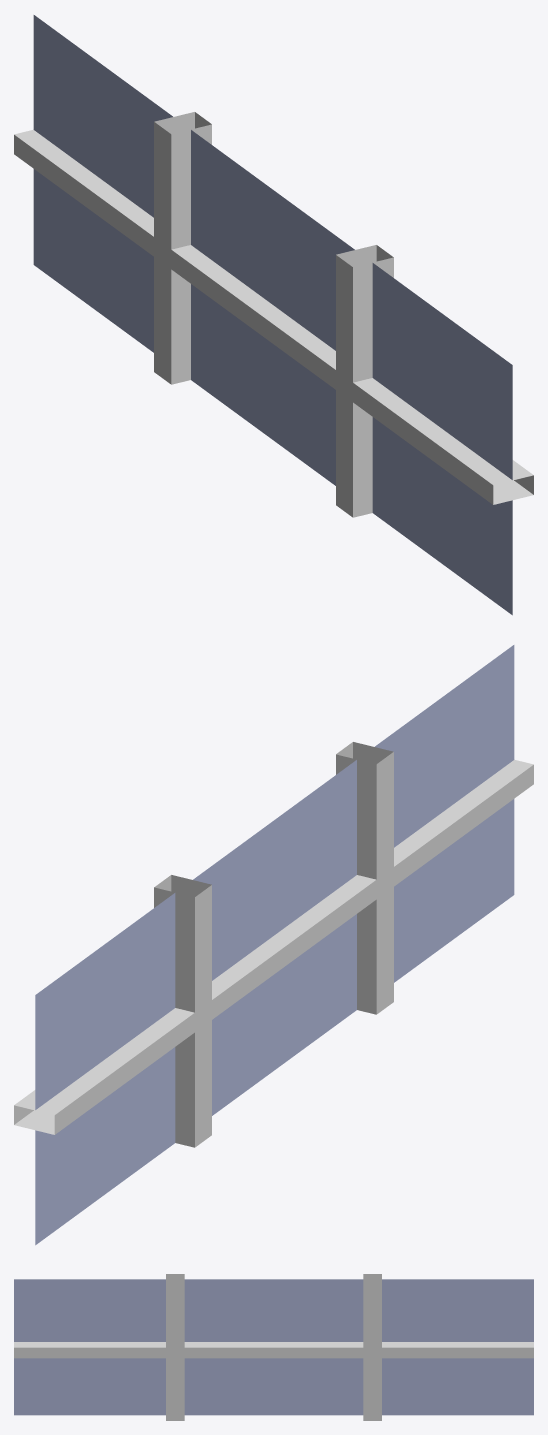
The model's file is SM_Office_Double_Window_002.fbx.
3 renders of one model, top to bottom at view 1: azimuth 30°, elevation 25°; view 2: azimuth 150°, elevation 25°; view 3: azimuth 270°, elevation 25°, orthographic. The views are drawn at different scales.
Parts seen in each view (by area): view 1: SM_Office_Double_Window_002; view 2: SM_Office_Double_Window_002; view 3: SM_Office_Double_Window_002.
Part boxes in pixels (box(x1,y1,x2,y2)): SM_Office_Double_Window_002: box(14, 15, 533, 615); SM_Office_Double_Window_002: box(14, 645, 533, 1245); SM_Office_Double_Window_002: box(14, 1274, 533, 1420).
Bounding box in the file's own units: 556 × 27.31 × 160.
